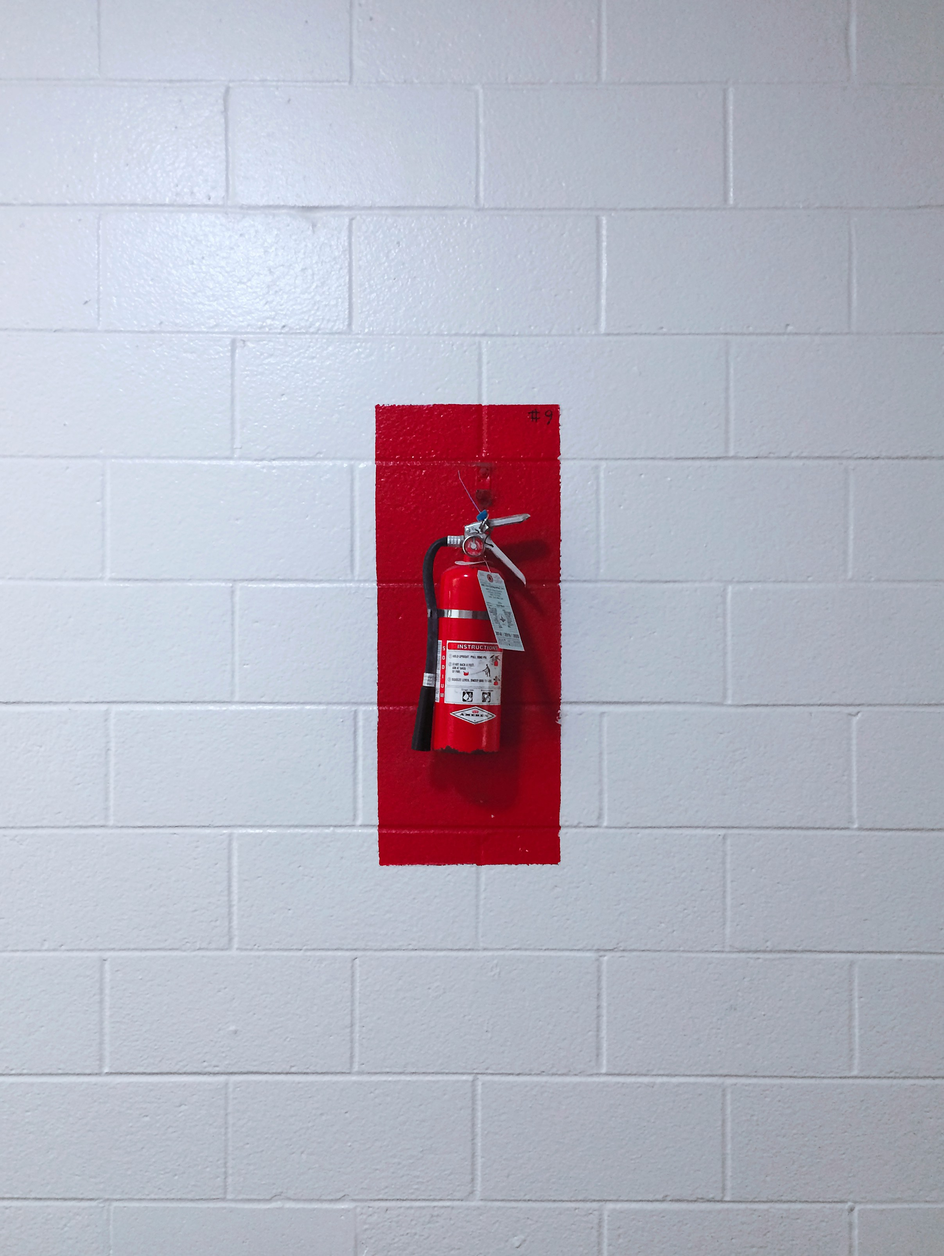fire_extinguisher: (412, 467, 531, 756)
